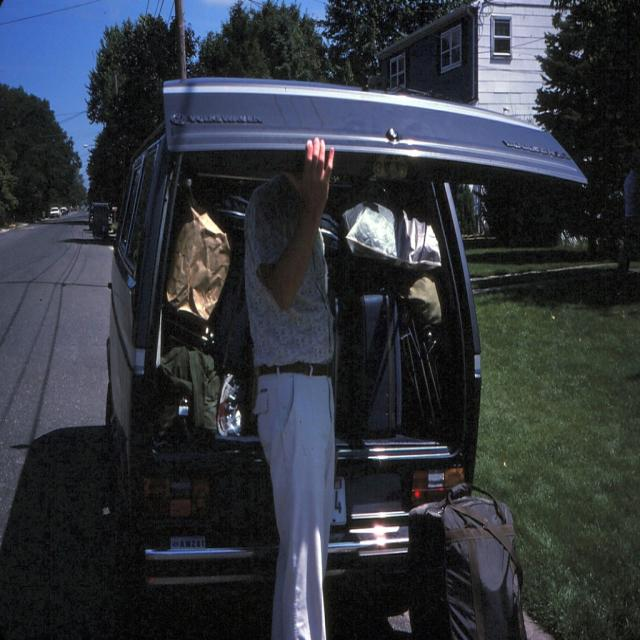car: (50, 206, 56, 216)
